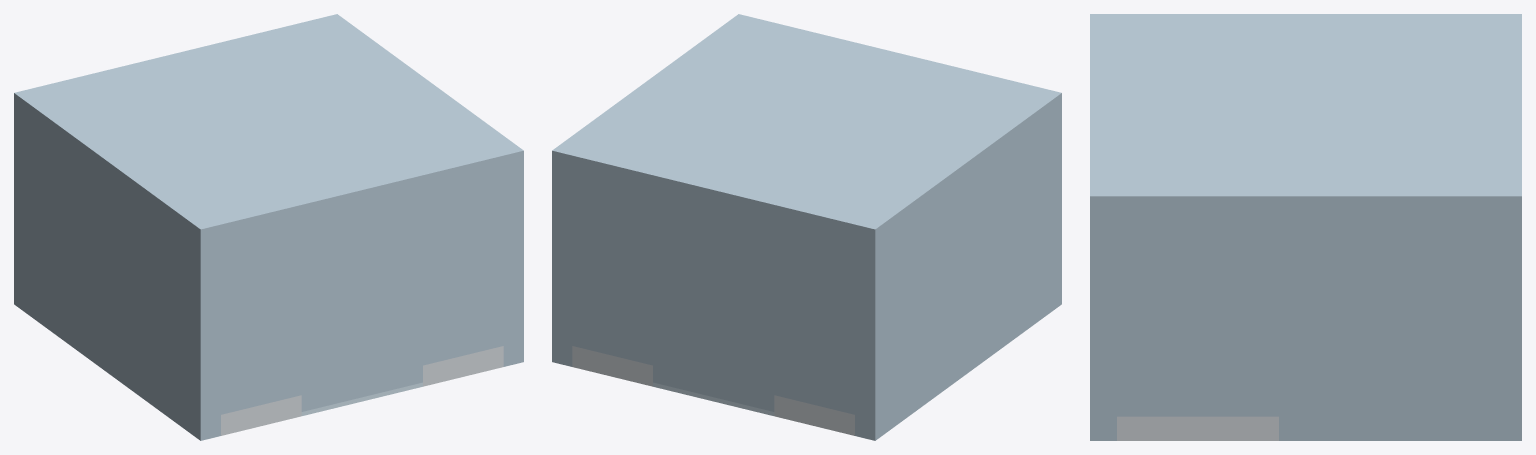
The model's file is frozen-river-mirror.glb.
3 renders of one model, left to right at view 1: azimuth 30°, elevation 25°; view 2: azimuth 150°, elevation 25°; view 3: azimuth 270°, elevation 25°, orthographic. The views are drawn at different scales.
Parts seen in each view (by area): view 1: ice-rock_11, plug_frozen_south, ice-rock_1, ice-rock_6, ice-rock_4, plug_frozen_south.001, snow_2, snow_3, snow_4, ice_1; view 2: ice-rock_11, plug_frozen_north, ice-rock_1, ice-rock_5, ice-rock_2, plug_frozen_north.001, snow_1, snow_2, ice_1; view 3: ice-rock_11, ice-rock_2, plug_ice_east, ice-rock_10, ice-rock_4, snow_5.
Boxes of the visible parts, x1,y1,x2,y2 form: ice-rock_11: (14, 14, 523, 250); plug_frozen_south: (221, 198, 503, 414); ice-rock_1: (14, 114, 220, 440); ice-rock_6: (221, 177, 503, 266); ice-rock_4: (503, 172, 523, 366); plug_frozen_south.001: (301, 365, 422, 411); snow_2: (423, 346, 503, 386); snow_3: (261, 395, 301, 425); snow_4: (221, 405, 261, 435); ice_1: (301, 382, 422, 415); ice-rock_11: (552, 14, 1061, 250); plug_frozen_north: (572, 198, 854, 414); ice-rock_1: (855, 114, 1061, 440); ice-rock_5: (572, 177, 854, 266); ice-rock_2: (552, 172, 572, 366); plug_frozen_north.001: (653, 365, 774, 411); snow_1: (774, 395, 854, 435); snow_2: (572, 346, 652, 386); ice_1: (653, 382, 774, 415); ice-rock_11: (1090, 14, 1521, 220); ice-rock_2: (1279, 221, 1521, 440); plug_ice_east: (1117, 269, 1278, 416); ice-rock_10: (1117, 221, 1278, 269); ice-rock_4: (1090, 221, 1116, 440); snow_5: (1117, 416, 1278, 440).
Size of the model in its own units: 8 by 5 by 8.
